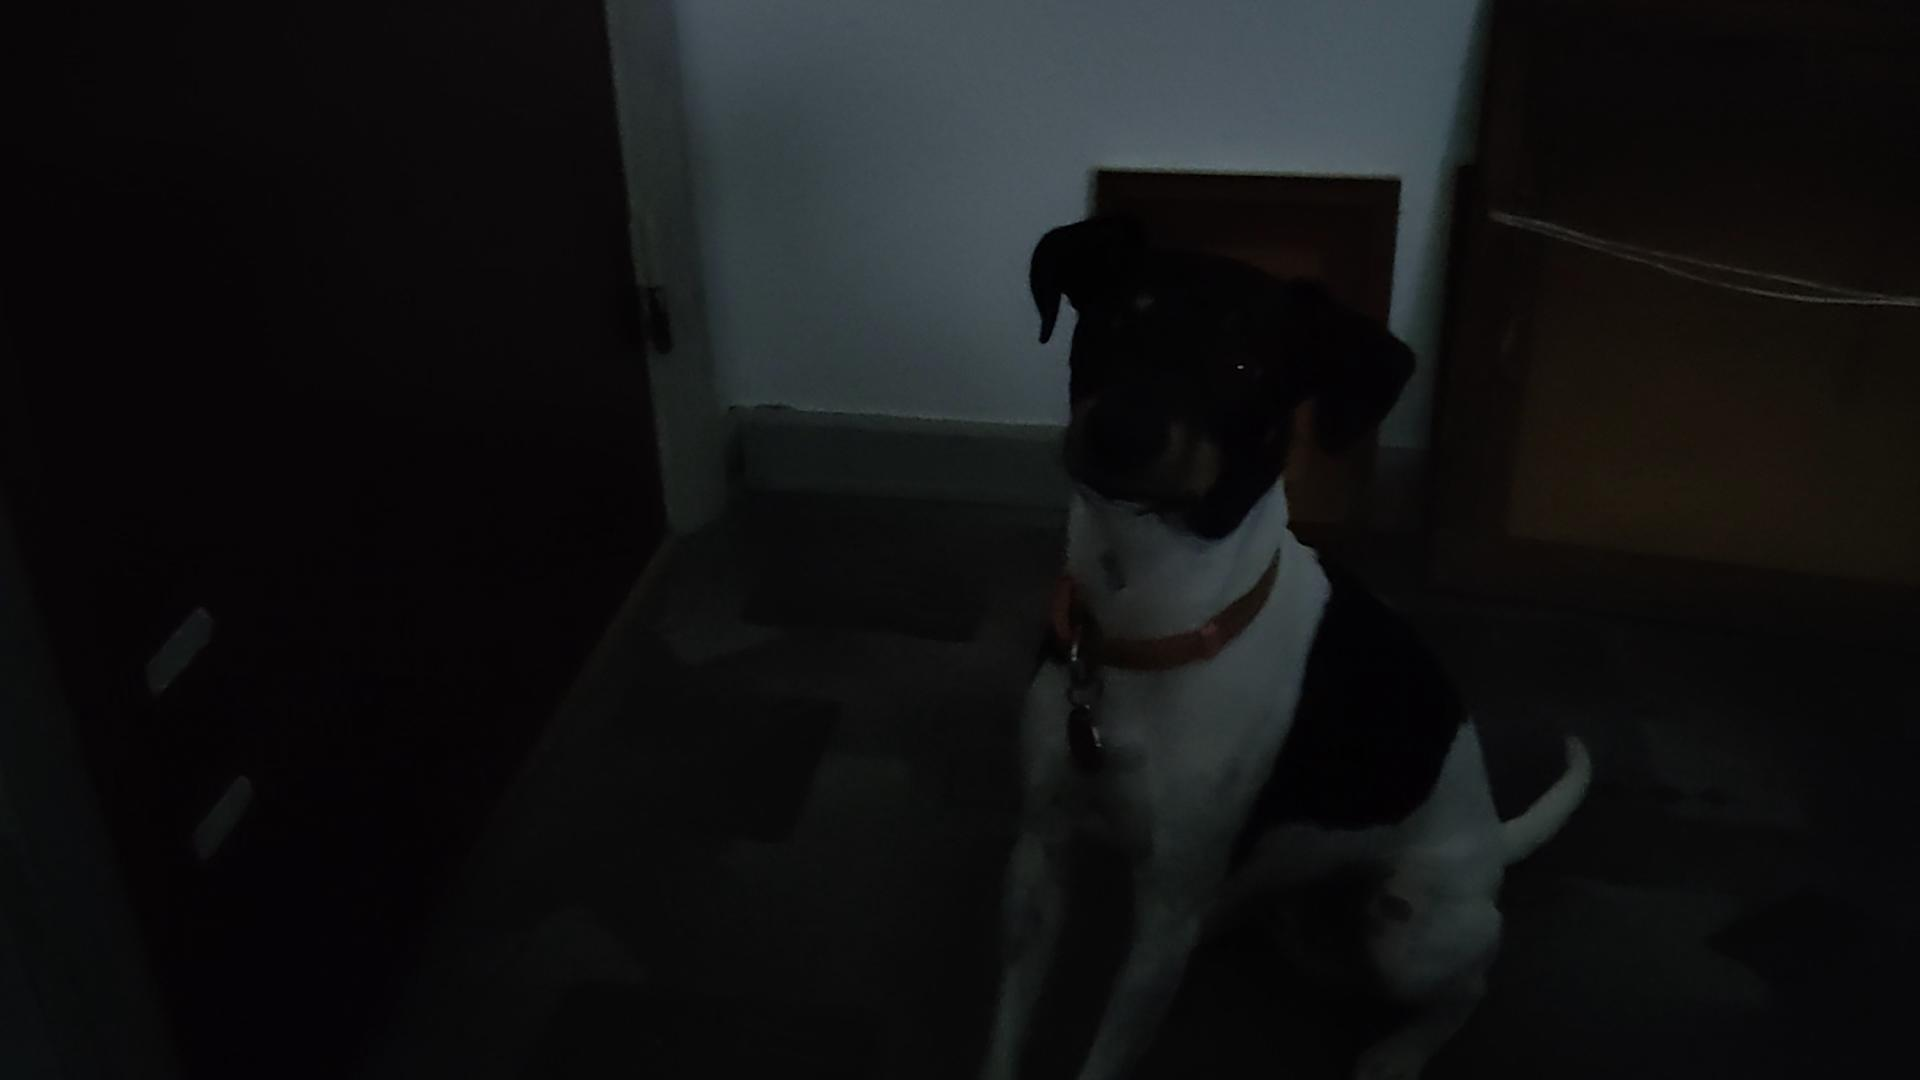Dog: (982, 193, 1597, 1079)
